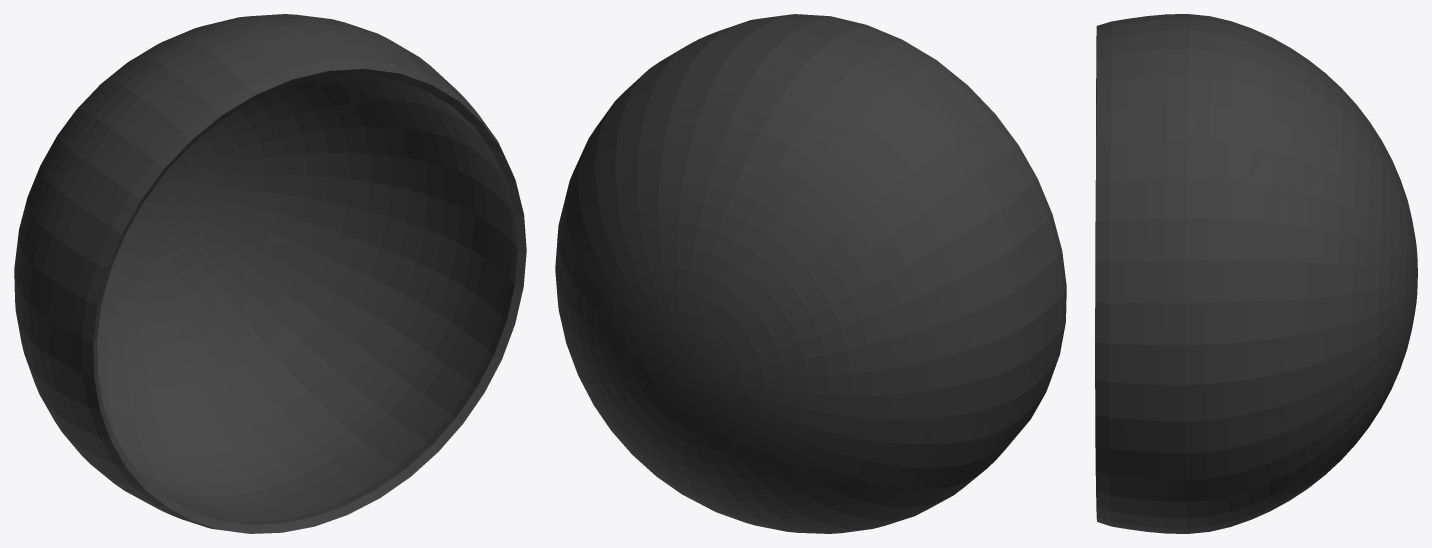
File: Choroid_stroma.glb
The picture shows the model from 3 angles, left to right: view 1: azimuth 30°, elevation 25°; view 2: azimuth 150°, elevation 25°; view 3: azimuth 270°, elevation 25°; orthographic projection.
Parts seen in each view (by area): view 1: Choroid_stroma; view 2: Choroid_stroma; view 3: Choroid_stroma.
Part boxes in pixels (bbox=[...]): Choroid_stroma: bbox=[14, 14, 526, 533]; Choroid_stroma: bbox=[555, 14, 1066, 533]; Choroid_stroma: bbox=[1095, 14, 1417, 533].
Size of the model in its own units: 1.93 by 1.93 by 1.2.
Materials: 1 (1 with a texture image).
